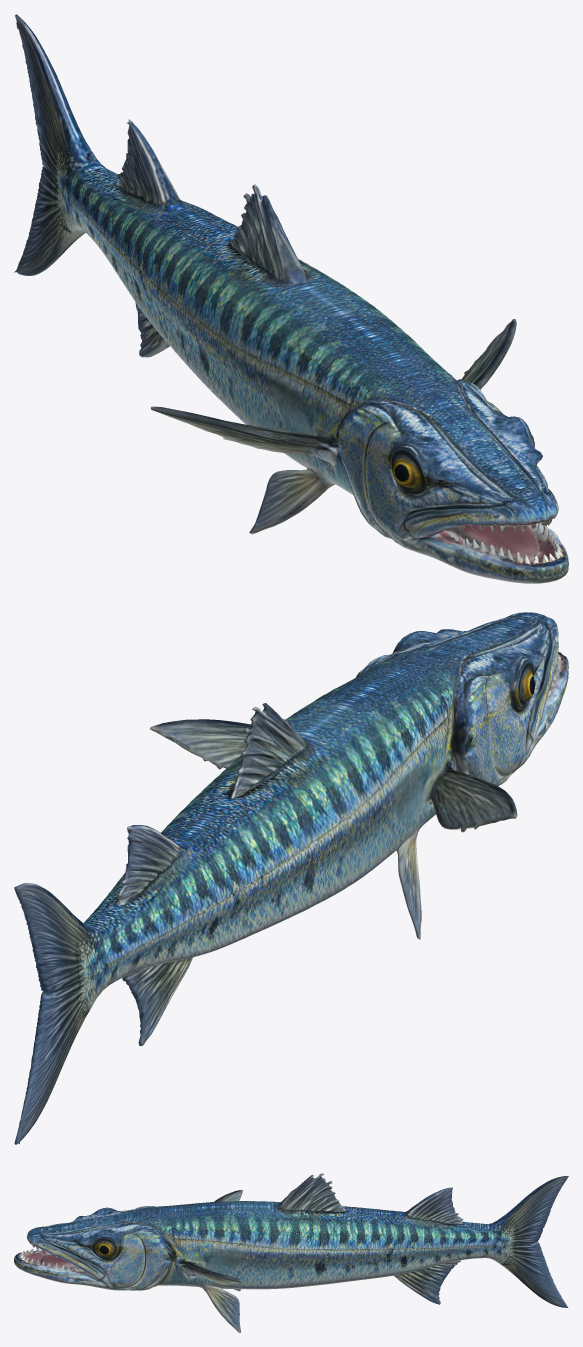
Rendered from Barracuda.obj.
3 renders of one model, top to bottom at view 1: azimuth 30°, elevation 25°; view 2: azimuth 150°, elevation 25°; view 3: azimuth 270°, elevation 25°, orthographic. The views are drawn at different scales.
Size of the model in its own units: 0.3913 by 0.2772 by 1.
1 material, 1 textured.
